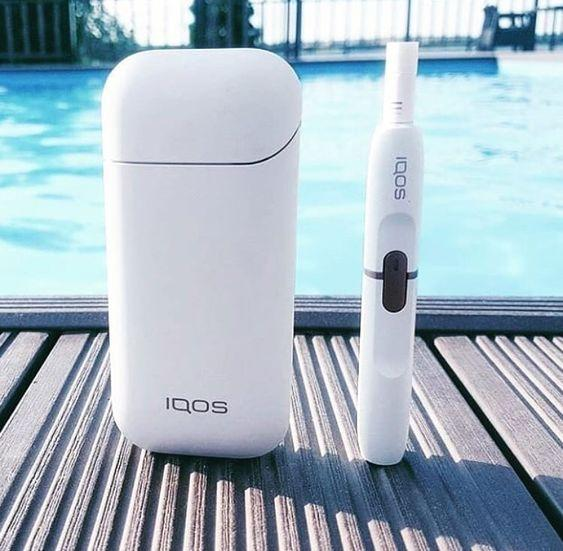iqos: (357, 42, 423, 464)
